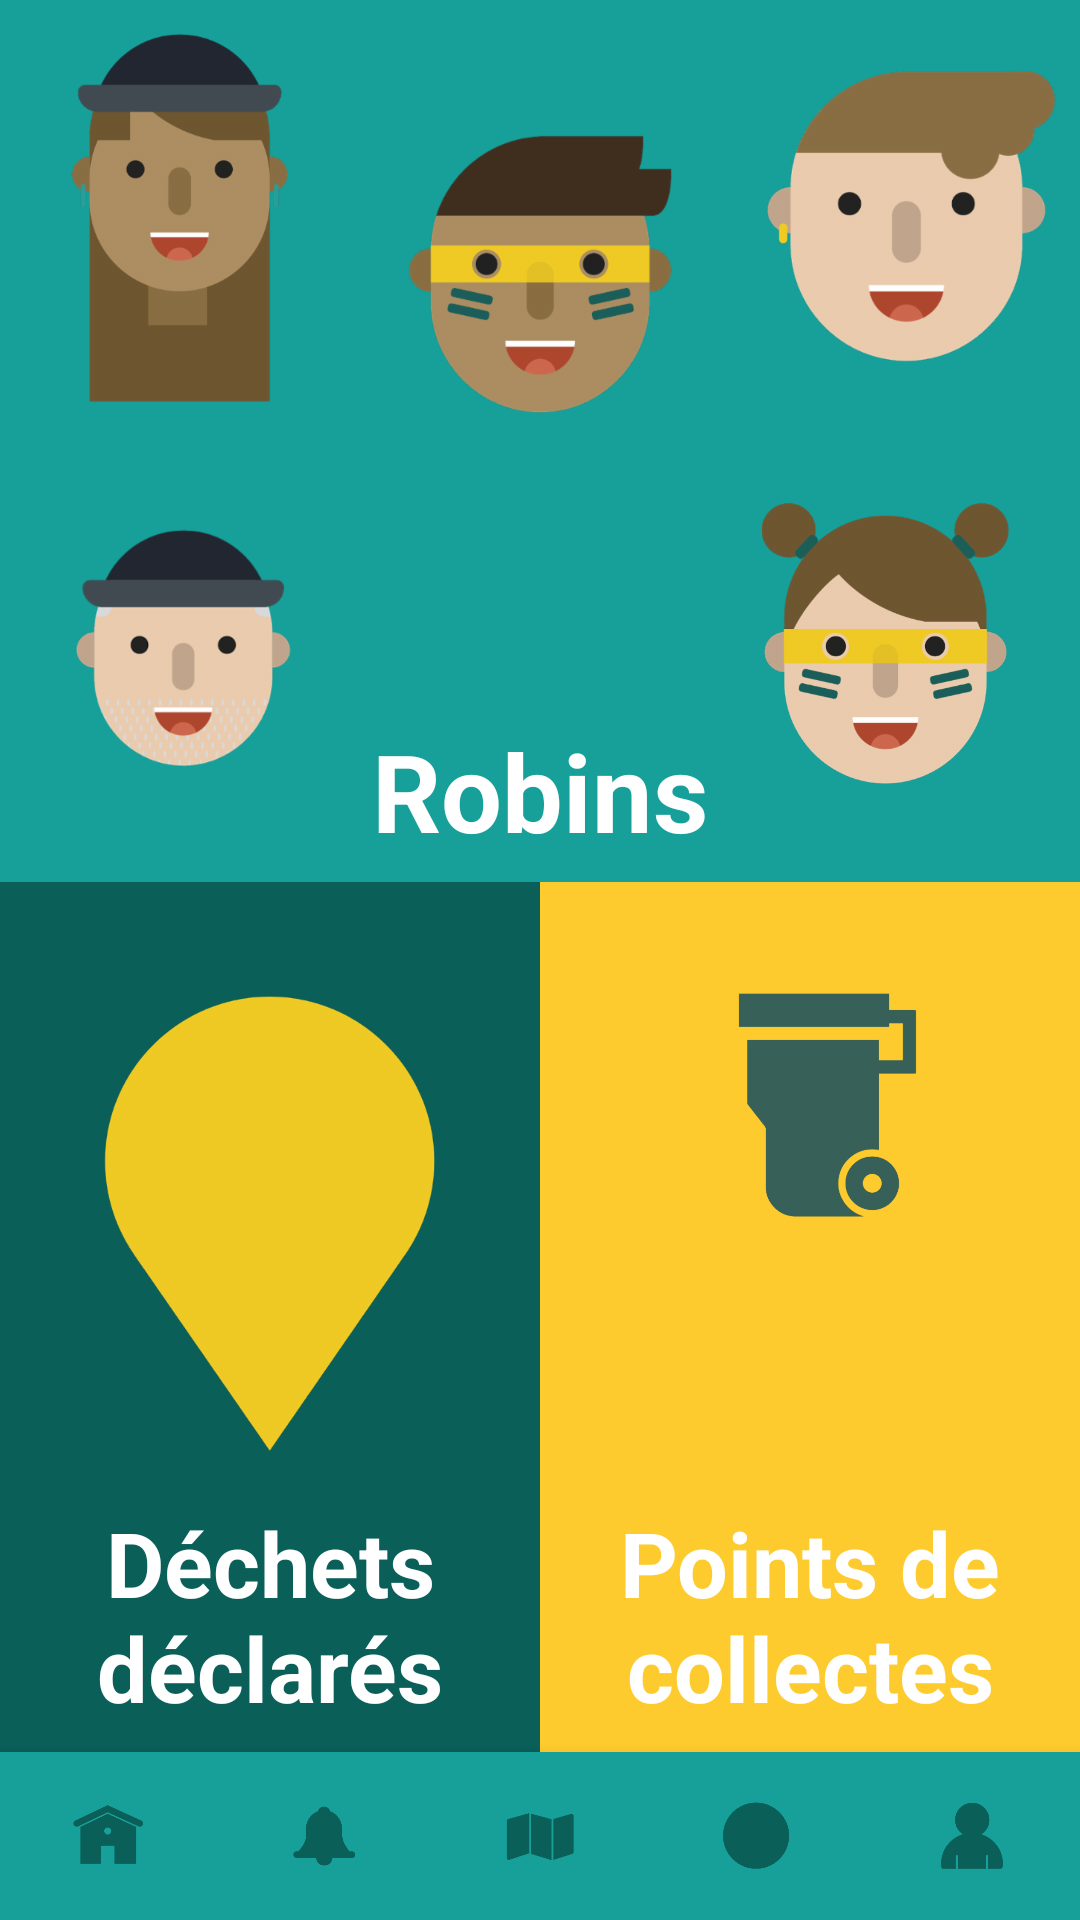

Icons on this 1080*1920 Android screen, each with its box as [x1,y1,x2,y2]:
poubelle main: [739,993,916,1217]
tete garcon meche: [767,71,1055,362]
tete hero gq: [409,136,672,413]
tete heroine gq: [762,503,1009,784]
